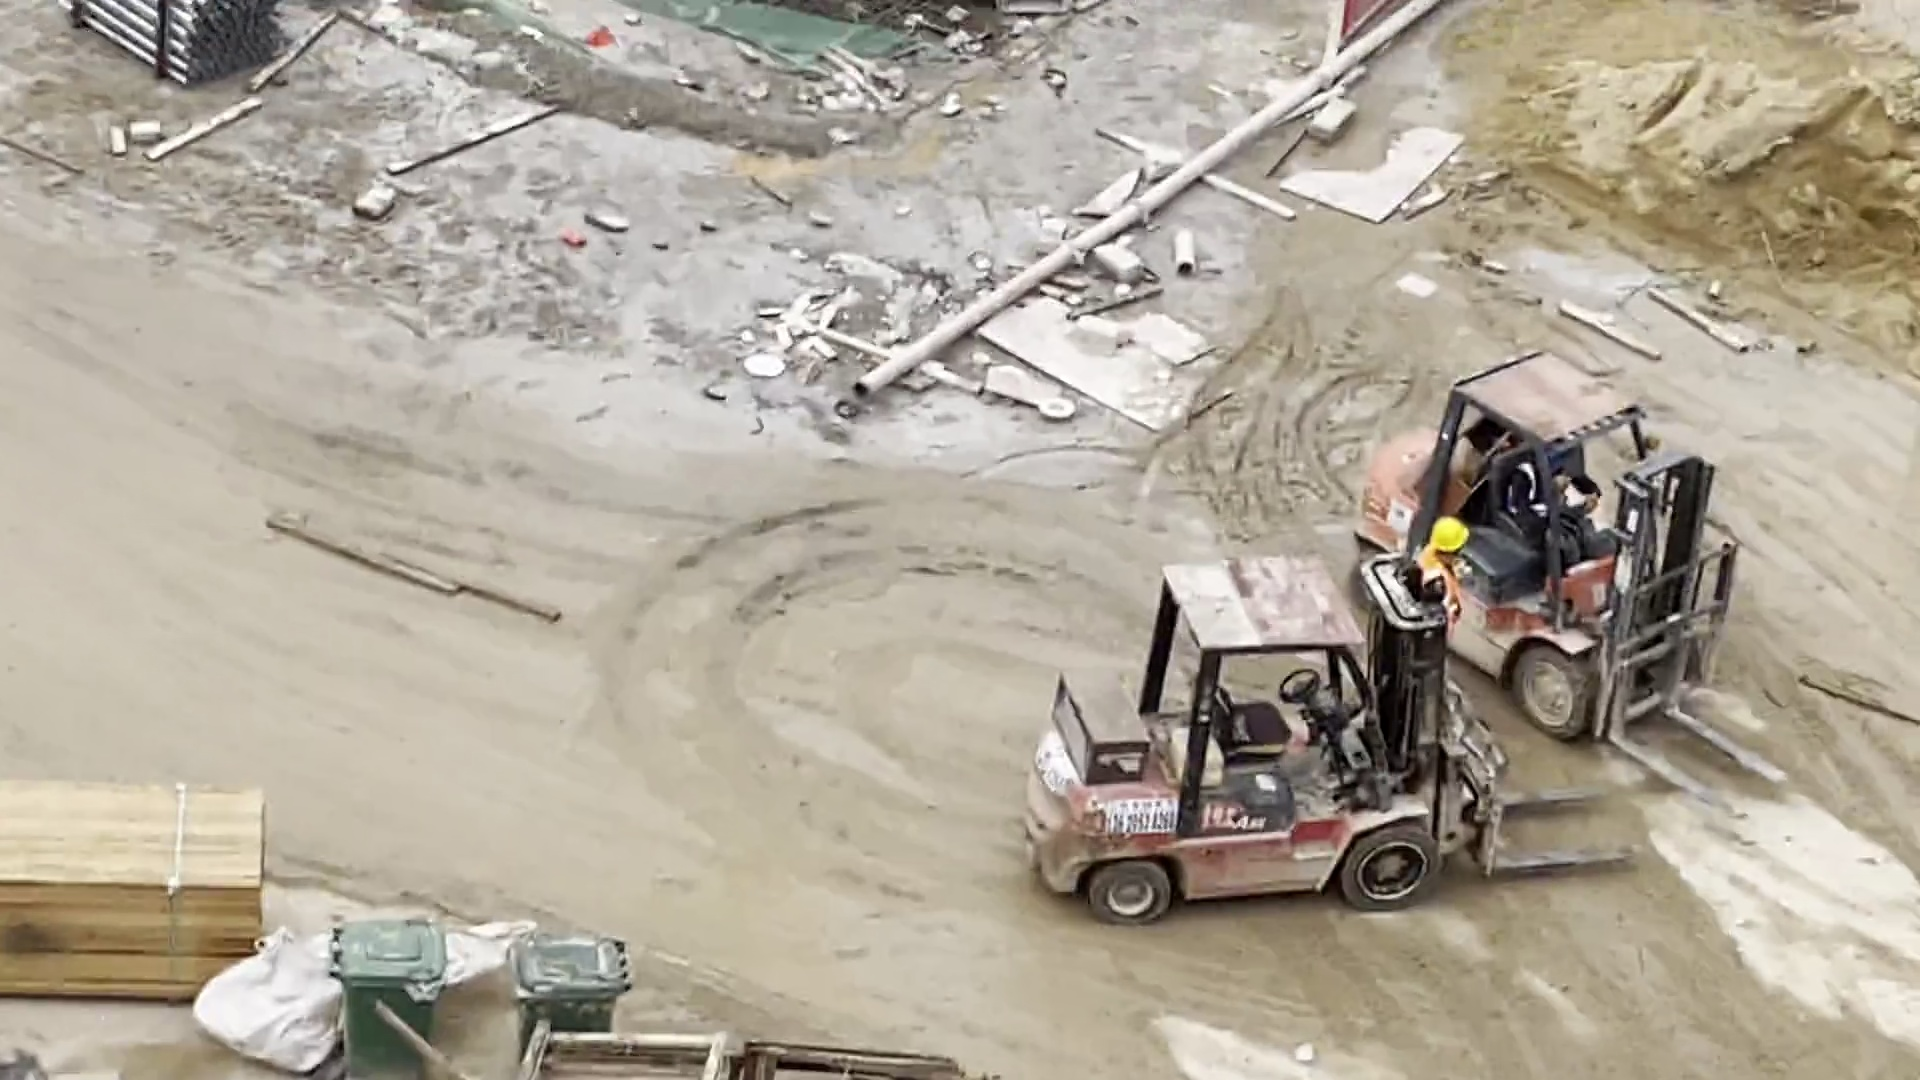helmet: (1434, 518, 1470, 550)
person: (1506, 452, 1607, 549), (1414, 512, 1478, 617)
scaffold: (74, 1, 281, 93)
vest: (1417, 547, 1461, 618), (1513, 462, 1560, 526)
wood: (2, 774, 274, 1005)
